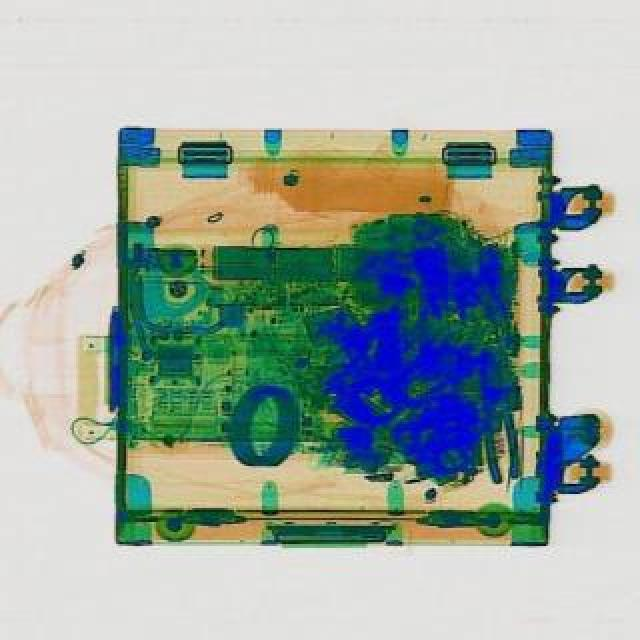wrench: (470, 346, 522, 482)
